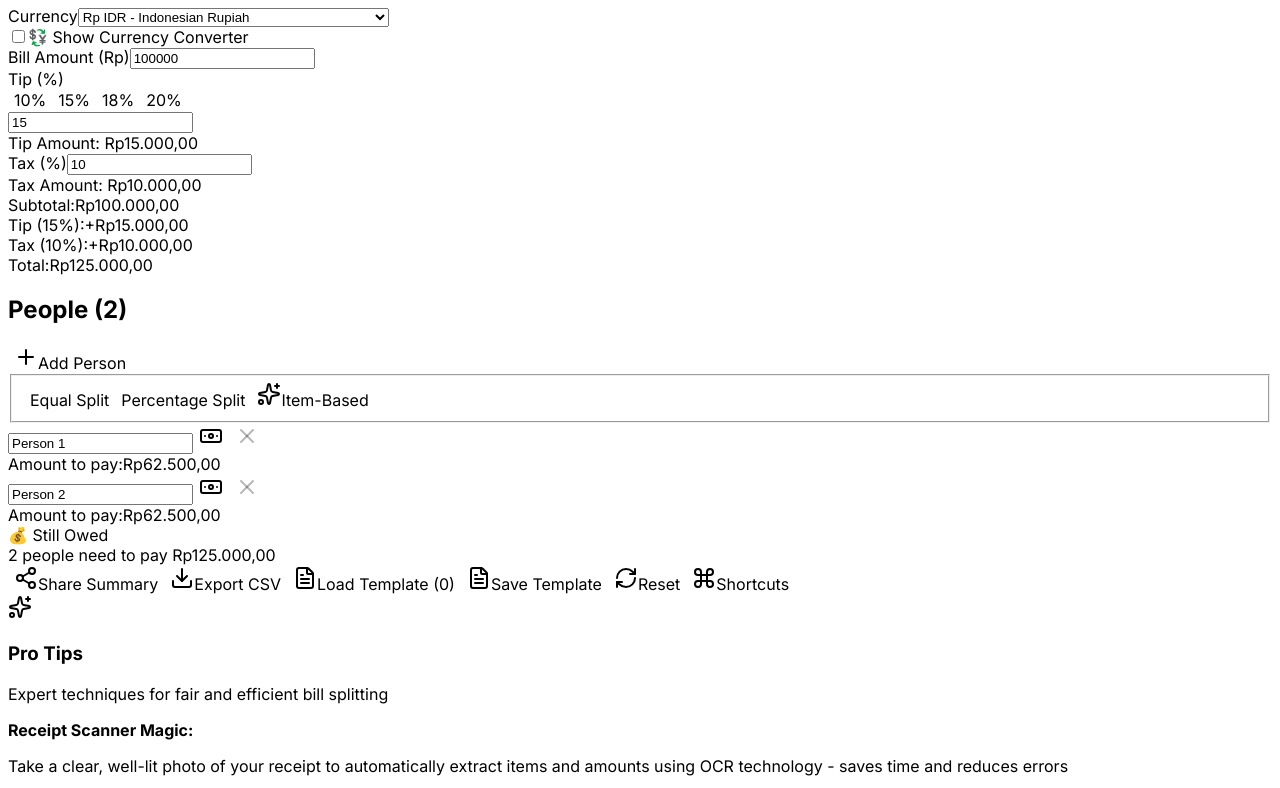
Scenario: Split Bill Calculator Page › Percentage Split Mode › should show valid split message when percentages total 100%
(page scrolled)
Click the button "Percentage Split".
click(183, 400)  # box [115, 389, 251, 411]
(page scrolled)
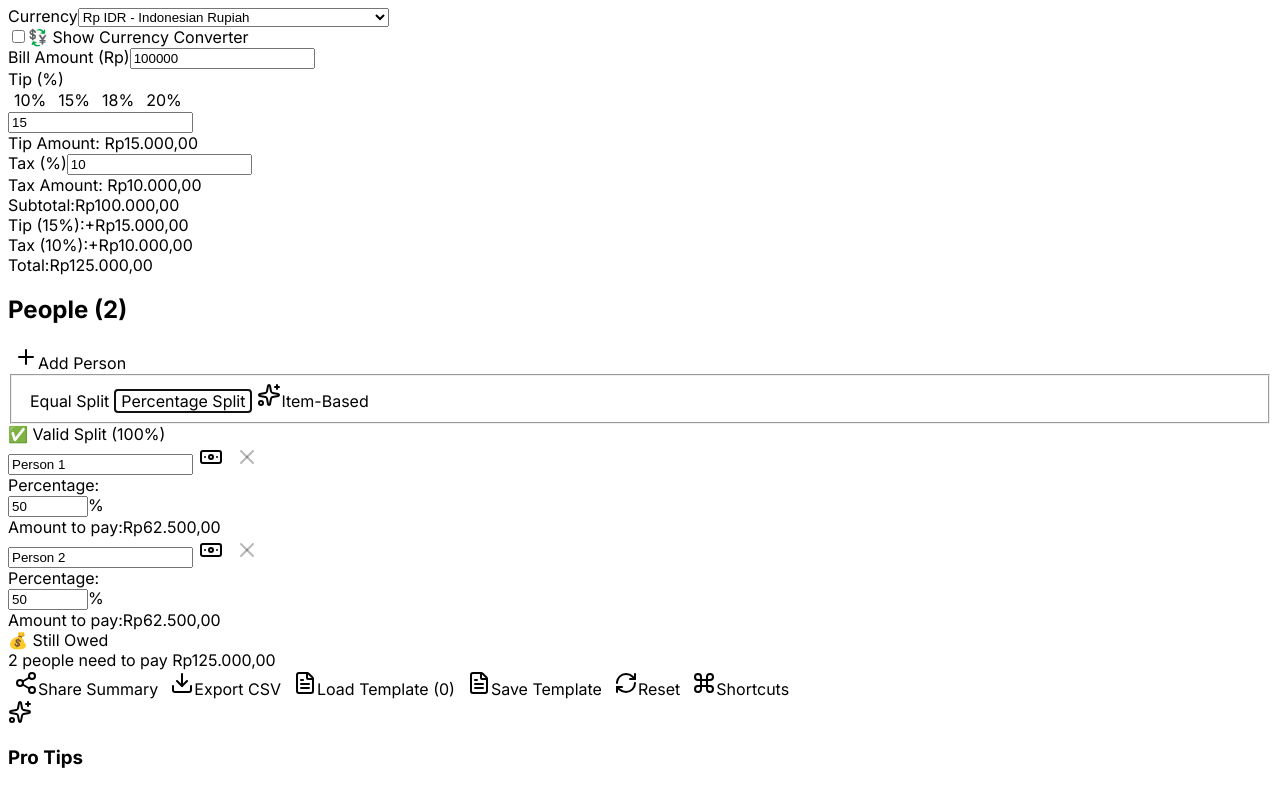
Now the text "✅ Valid Split (100%)" is shown, box [8, 424, 165, 444]
